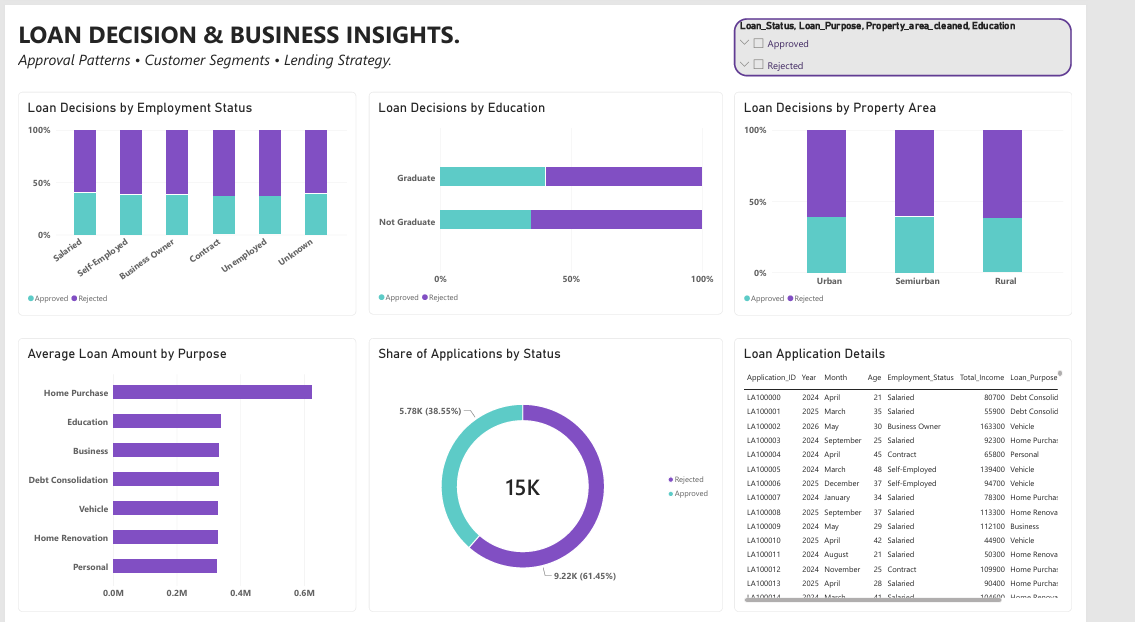

Layout of this report page (visuals, bound fields, positions):
{"tool":"powerbi","page":{"name":"Loan Decision & Business Insights","canvas":[1920,1080],"ordinal":3},"visuals":[{"type":"textbox","box":[0,0,1920.5,106.8],"z":0},{"type":"hundredPercentStackedColumnChart","title":"Loan Decisions by Employment Status","fields":{"Category":["LoanData_Cleaned.Employment_Status"],"Series":["LoanData_Cleaned.Loan_Status"],"Y":["CountNonNull(LoanData_Cleaned.Application_ID)"]},"box":[0,134.1,615.9,406.8],"z":1000},{"type":"hundredPercentStackedBarChart","title":"Loan Decisions by Education","fields":{"Category":["LoanData_Cleaned.Education"],"Series":["LoanData_Cleaned.Loan_Status"],"Y":["CountNonNull(LoanData_Cleaned.Application_ID)"]},"box":[638.6,134.1,645.5,404.5],"z":2000},{"type":"hundredPercentStackedColumnChart","title":"Loan Decisions by Property Area","fields":{"Category":["LoanData_Cleaned.Property_area_cleaned"],"Series":["LoanData_Cleaned.Loan_Status"],"Y":["CountNonNull(LoanData_Cleaned.Application_ID)"]},"box":[1304.5,134.1,616,407],"z":3000},{"type":"clusteredBarChart","title":"Average Loan Amount by Purpose","fields":{"Category":["LoanData_Cleaned.Loan_Purpose"],"Y":["Avg(LoanData_Cleaned.Lone_Amount_Clean)"]},"box":[0,581.8,615.9,497.7],"z":4000},{"type":"donutChart","title":"Share of Applications by Status","fields":{"Category":["LoanData_Cleaned.Loan_Status"],"Y":["CountNonNull(LoanData_Cleaned.Application_ID)"]},"box":[639,582,645,498],"z":5000},{"type":"tableEx","title":"Loan Application Details","fields":{"Values":["LoanData_Cleaned.Application_ID","LoanData_Cleaned.Application_Date.Variation.Date Hierarchy.Year","LoanData_Cleaned.Application_Date.Variation.Date Hierarchy.Month","Sum(LoanData_Cleaned.Age)","LoanData_Cleaned.Employment_Status","Sum(LoanData_Cleaned.Total_Income)","Sum(LoanData_Cleaned.Credit_score_cleaned)","Sum(LoanData_Cleaned.Lone_Amount_Clean)","LoanData_Cleaned.Loan_Purpose","LoanData_Cleaned.Loan_Status"]},"box":[1305,582,615,498],"z":6000},{"type":"slicer","fields":{"Values":["LoanData_Cleaned.Loan_Status","LoanData_Cleaned.Loan_Purpose","LoanData_Cleaned.Property_area_cleaned","LoanData_Cleaned.Education"]},"box":[1304,0,616,106],"z":6001}]}

Visuals, with their boxes in screenshot pixels (x1, y1, x2, y2), scaled from the page's 1920x1080 canvas onto the 1135x622 screenshot:
textbox: <region>0, 0, 1134, 62</region>
"Loan Decisions by Employment Status" hundredPercentStackedColumnChart: <region>0, 77, 364, 312</region>
"Loan Decisions by Education" hundredPercentStackedBarChart: <region>378, 77, 759, 310</region>
"Loan Decisions by Property Area" hundredPercentStackedColumnChart: <region>771, 77, 1134, 312</region>
"Average Loan Amount by Purpose" clusteredBarChart: <region>0, 335, 364, 621</region>
"Share of Applications by Status" donutChart: <region>378, 335, 759, 621</region>
"Loan Application Details" tableEx: <region>771, 335, 1134, 621</region>
slicer - LoanData_Cleaned.Loan_Status x LoanData_Cleaned.Loan_Purpose: <region>771, 0, 1134, 61</region>
